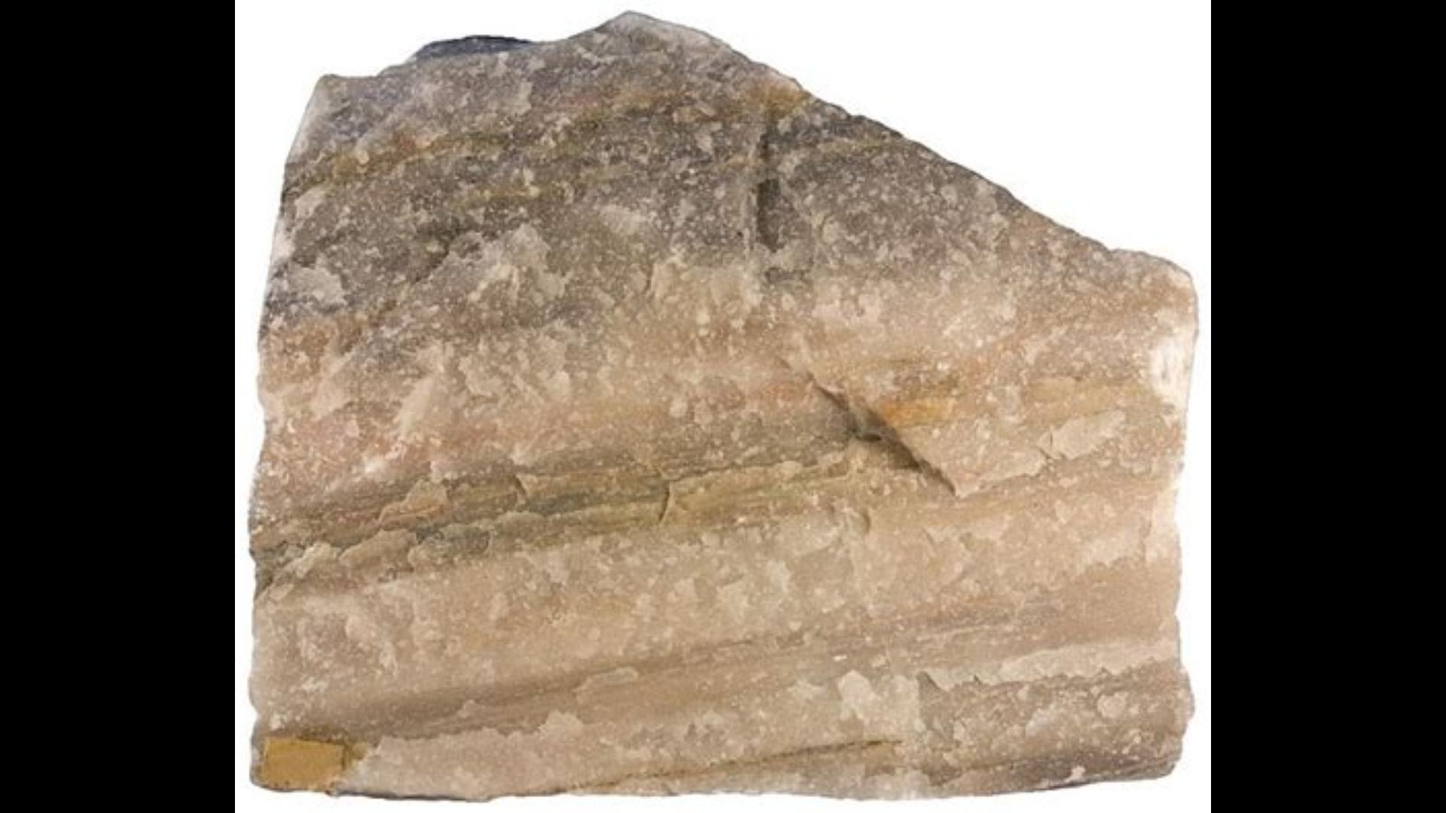rock: (256, 14, 1188, 794)
